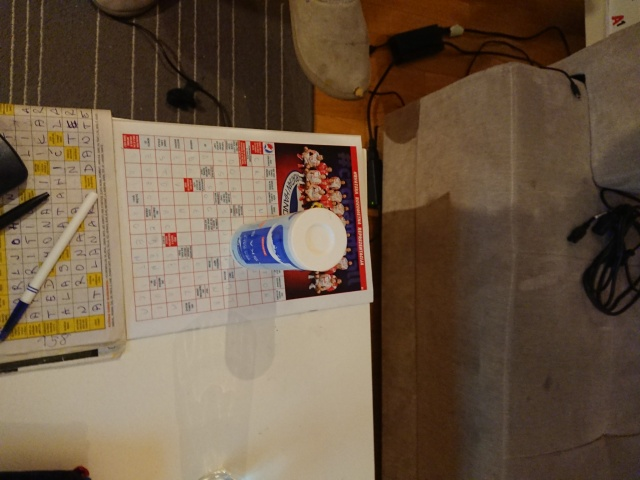Solana Pag Fine Sea Salt 250g: (227, 205, 350, 275)
